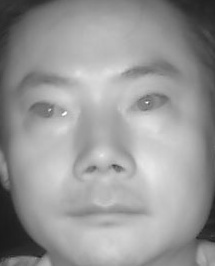eye: (126, 91, 173, 118), (28, 96, 69, 123)
mouth: (66, 191, 147, 234)
